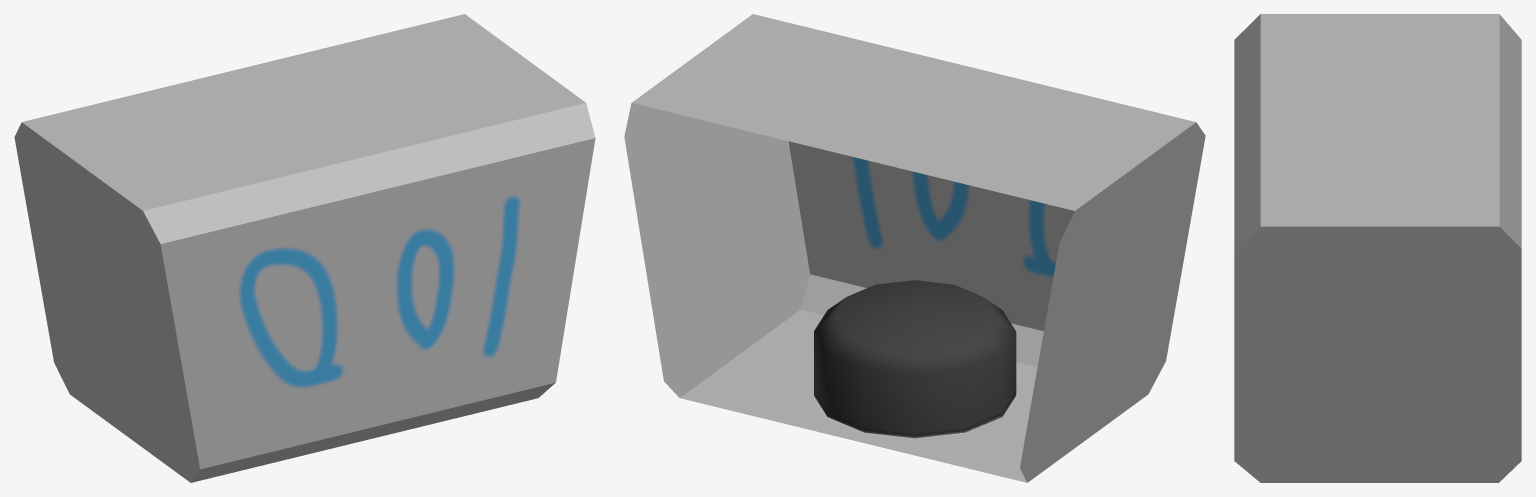
File: donuts01.fbx
3 renders of one model, left to right at view 1: azimuth 30°, elevation 25°; view 2: azimuth 150°, elevation 25°; view 3: azimuth 270°, elevation 25°, orthographic.
Parts seen in each view (by area): view 1: donuts01; view 2: donuts01; view 3: donuts01.
Boxes of the visible parts, x1=… form: donuts01: x1=14, y1=14, x2=595, y2=482; donuts01: x1=624, y1=14, x2=1205, y2=482; donuts01: x1=1234, y1=14, x2=1521, y2=482.
Bounding box in the file's own units: 3.19 × 1.95 × 1.82.
